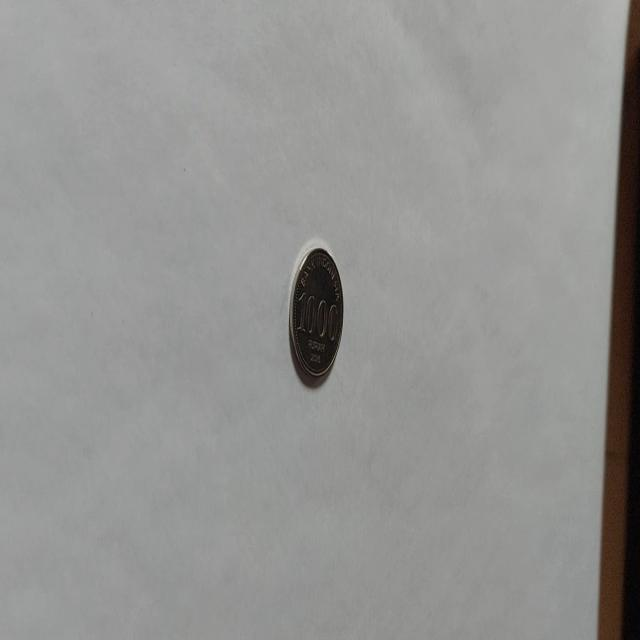seribu rupiah koin: (287, 244, 345, 386)
